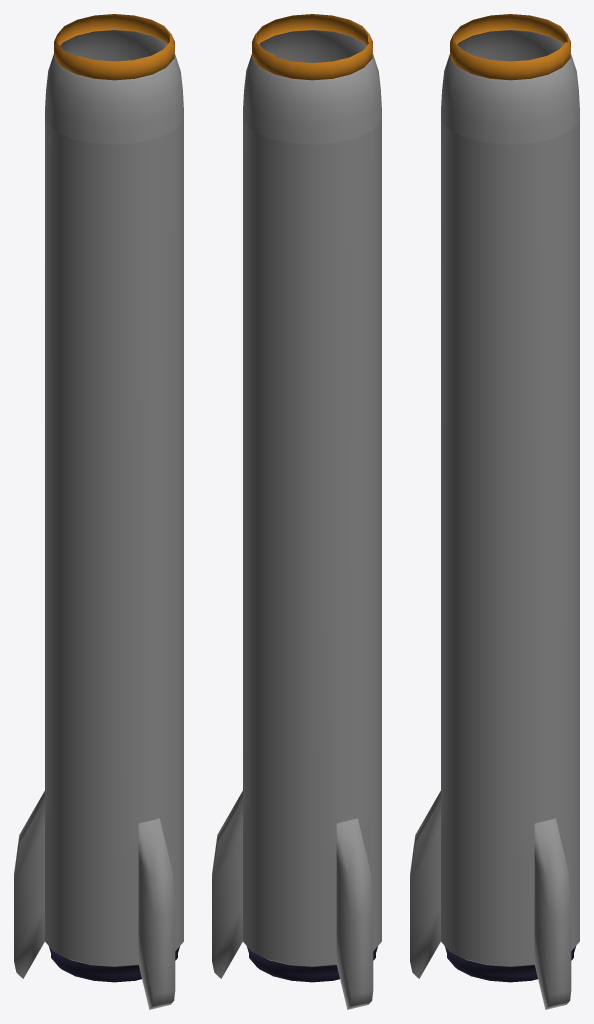
File: dongfeng-1.obj
3 renders of one model, left to right at view 1: azimuth 30°, elevation 25°; view 2: azimuth 150°, elevation 25°; view 3: azimuth 270°, elevation 25°, orthographic.
Parts seen in each view (by area): view 1: dd; view 2: dd; view 3: dd.
Part boxes in pixels (x1,y1,x2,y2): dd: (14, 14, 183, 1009); dd: (212, 14, 381, 1009); dd: (410, 14, 579, 1009).
Size of the model in its own units: 1.06 by 5.86 by 0.9632.
